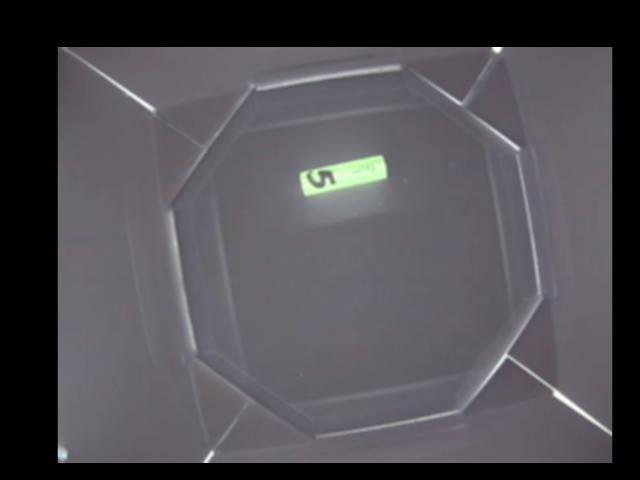Battery: (300, 155, 387, 195)
